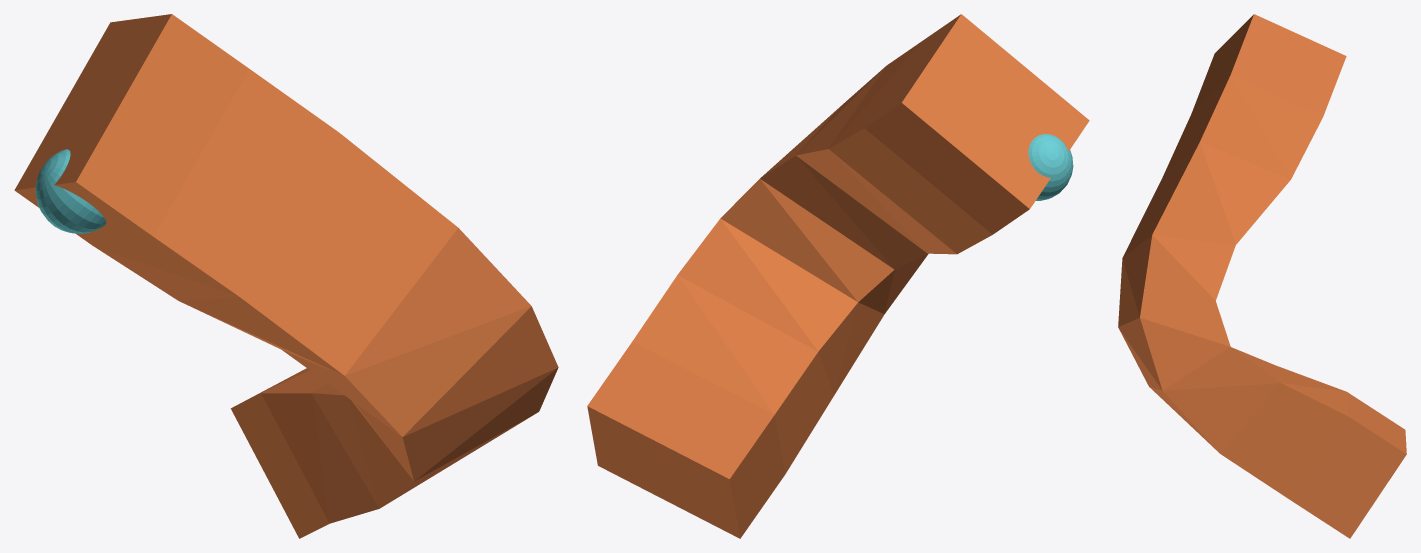
The model's file is ik-pose.glb.
3 renders of one model, left to right at view 1: azimuth 30°, elevation 25°; view 2: azimuth 150°, elevation 25°; view 3: azimuth 270°, elevation 25°, orthographic. The views are drawn at different scales.
Visible parts, largest first — view 1: Flexible column · 当前姿态, Wrist; view 2: Flexible column · 当前姿态, Wrist; view 3: Flexible column · 当前姿态.
Part boxes in pixels (x1,y1,x2,y2): Flexible column · 当前姿态: (14,14,558,538); Wrist: (35,149,106,233); Flexible column · 当前姿态: (587,14,1089,538); Wrist: (1028,134,1073,200); Flexible column · 当前姿态: (1118,14,1406,538).
Size of the model in its own units: 1.7 by 2.05 by 1.24.
